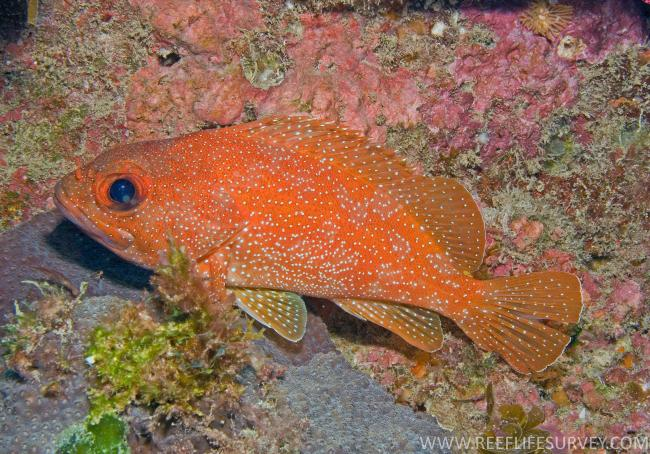fish: (53, 115, 585, 375)
